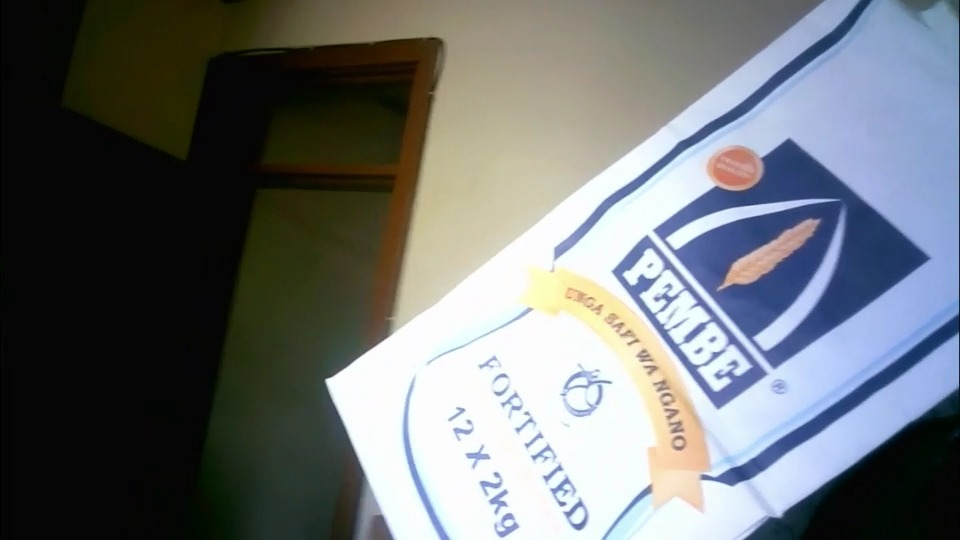wheat_flour_blue_label: (320, 1, 960, 538)
